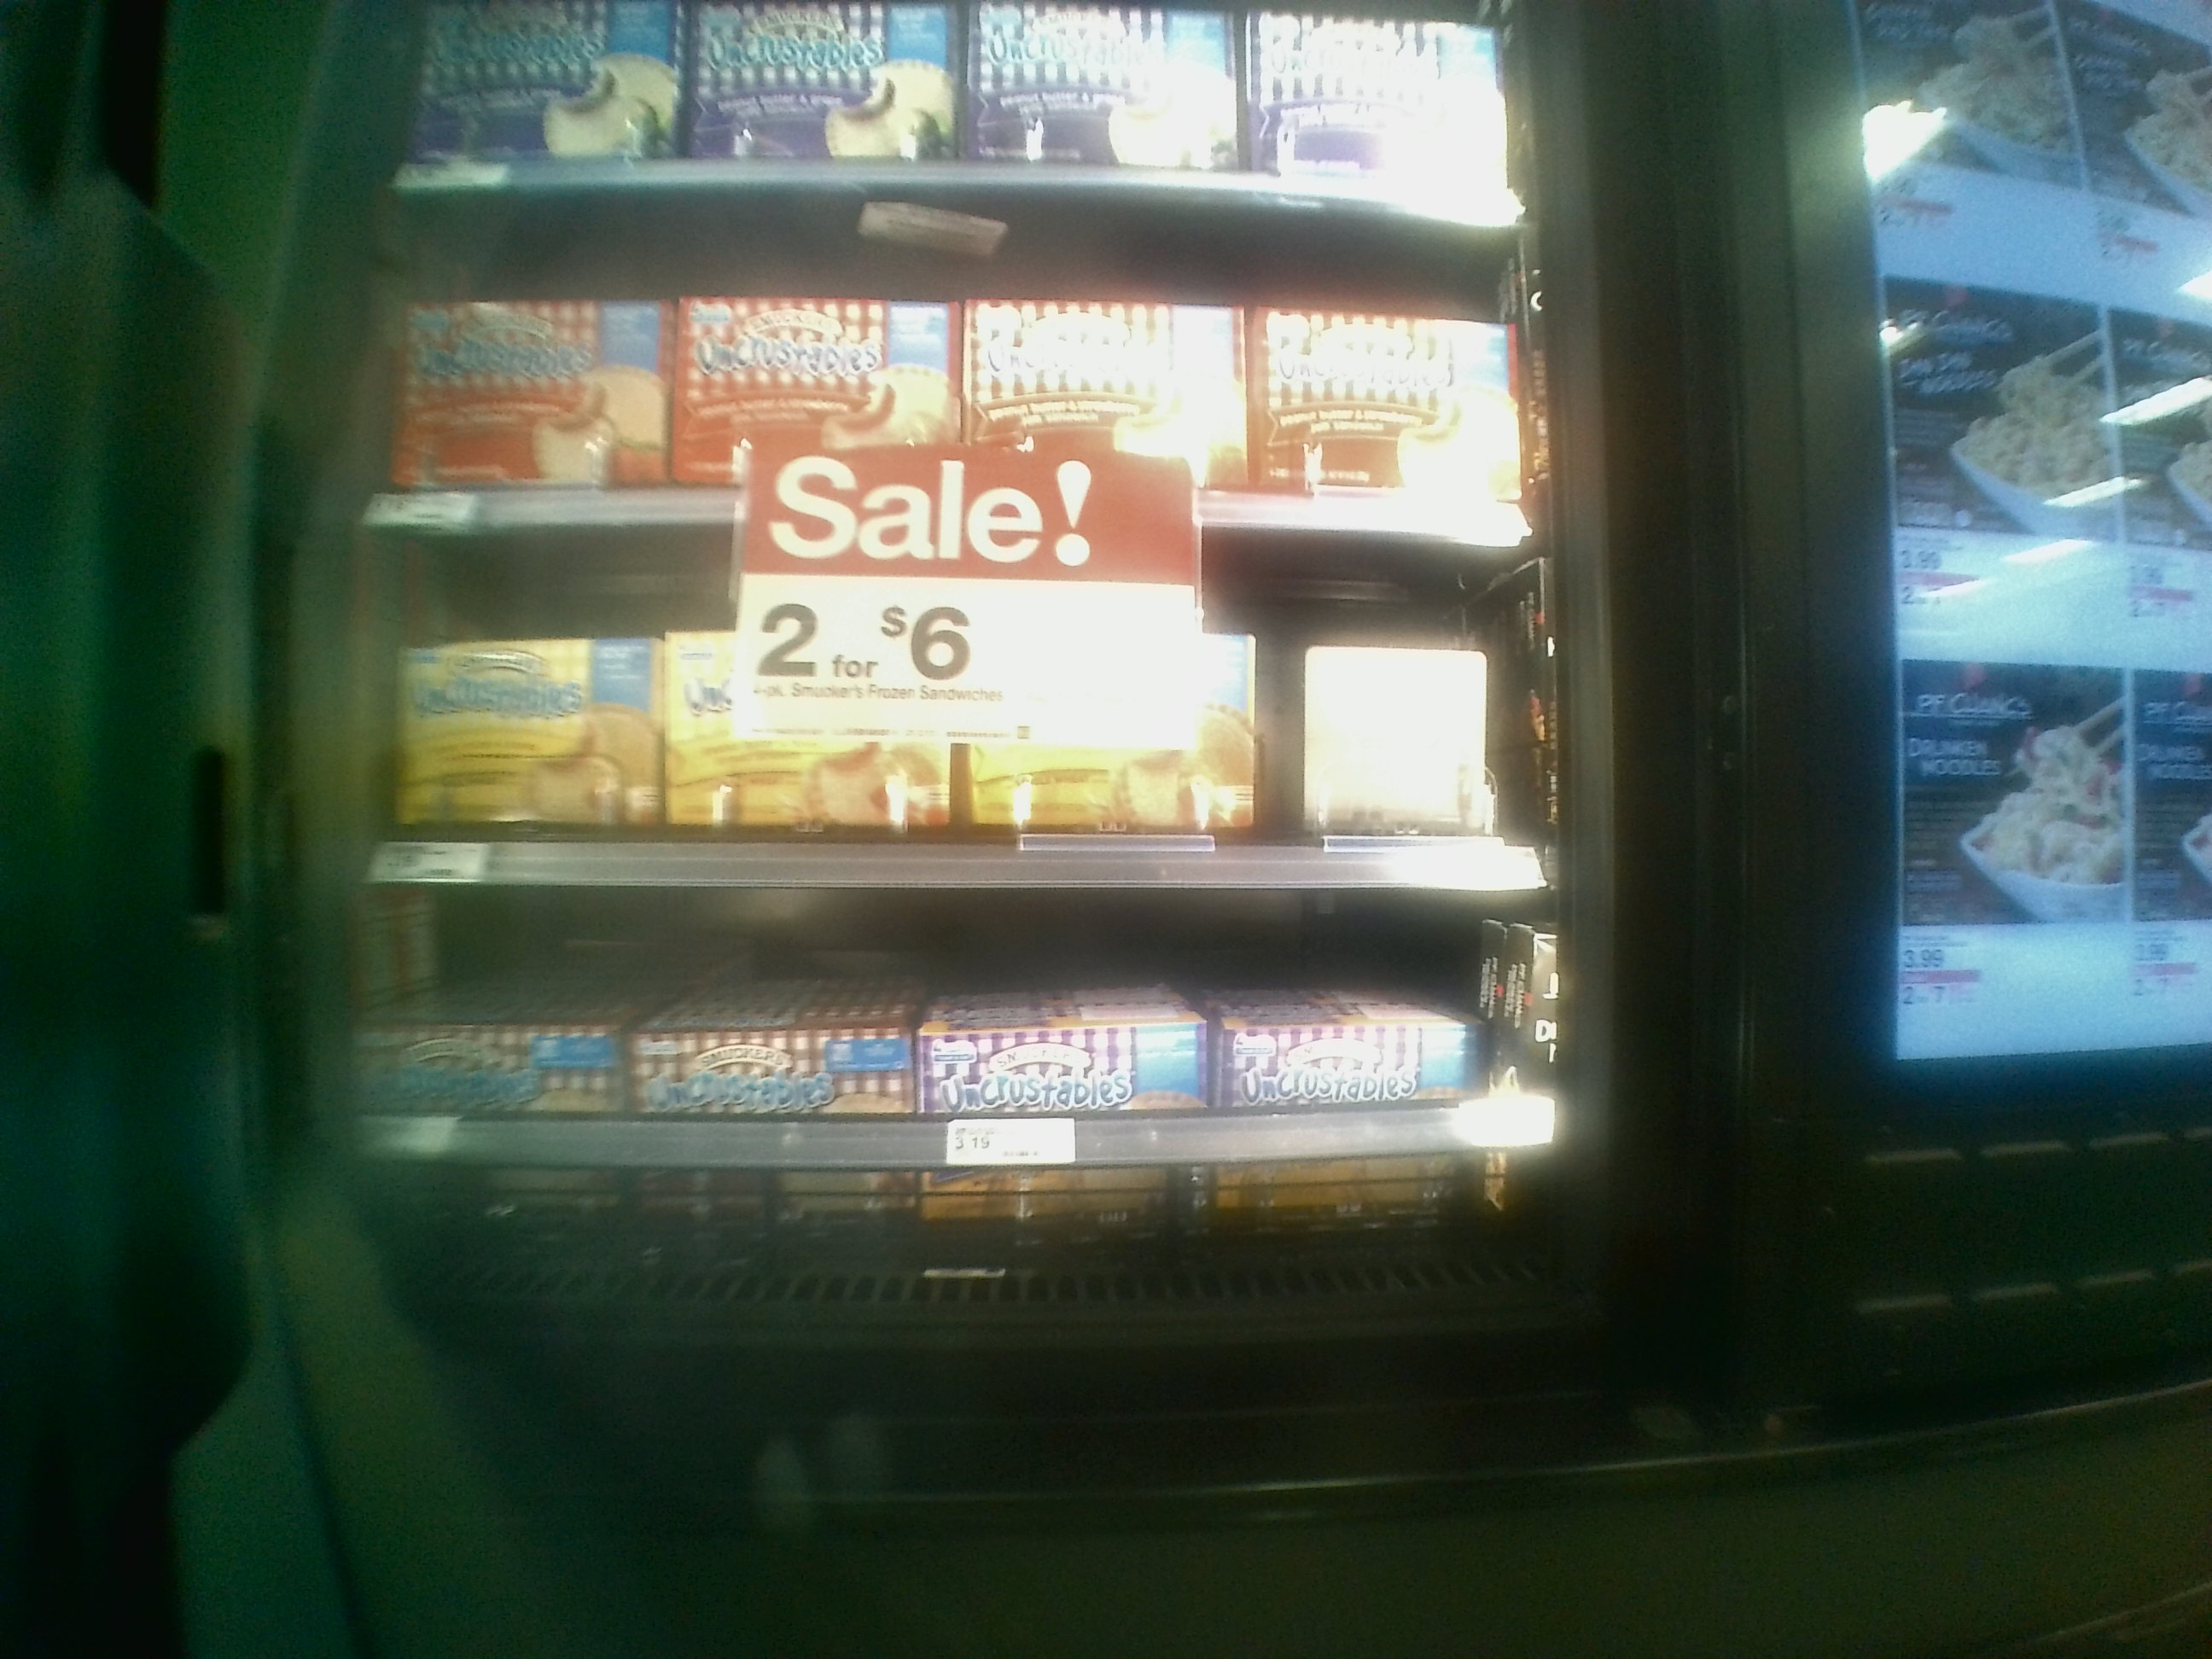shelf: (354, 892, 1571, 1298), (347, 167, 1541, 551), (322, 525, 1554, 887)
